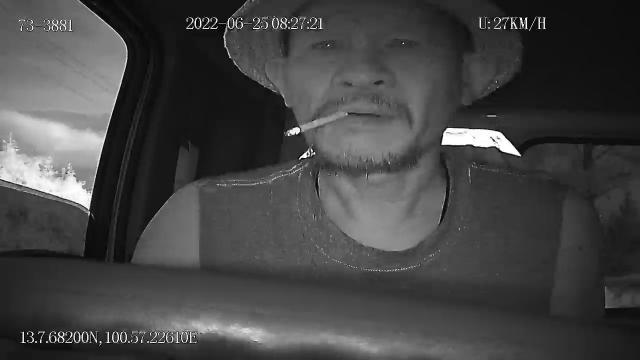SafeDriving: (377, 28, 426, 56)
Smoking: (284, 110, 348, 138)
